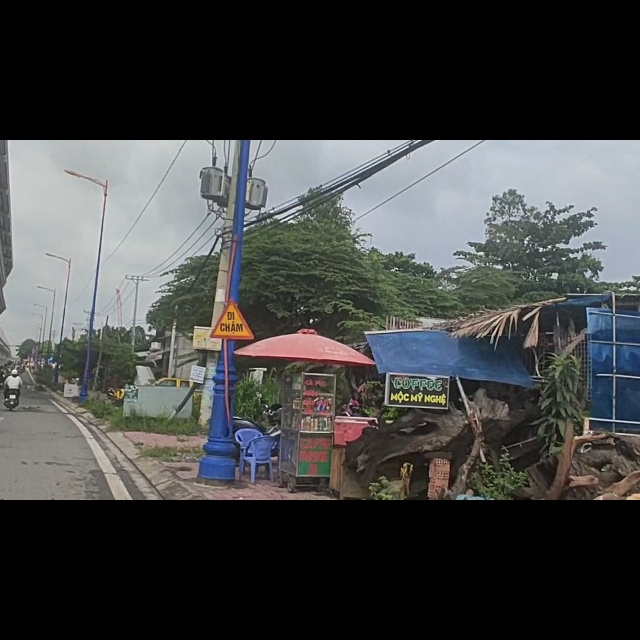bien_nguy_hiem: (210, 282, 255, 357)
